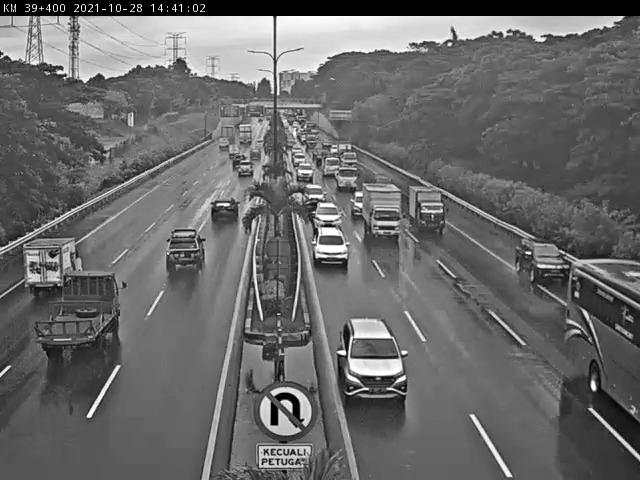car: (335, 316, 406, 404), (514, 237, 575, 285), (167, 229, 206, 274), (312, 227, 350, 267), (209, 195, 240, 223)
mid truck: (32, 271, 120, 360), (363, 181, 401, 239), (408, 184, 445, 231), (311, 200, 343, 229)
small truck: (24, 236, 86, 295)
